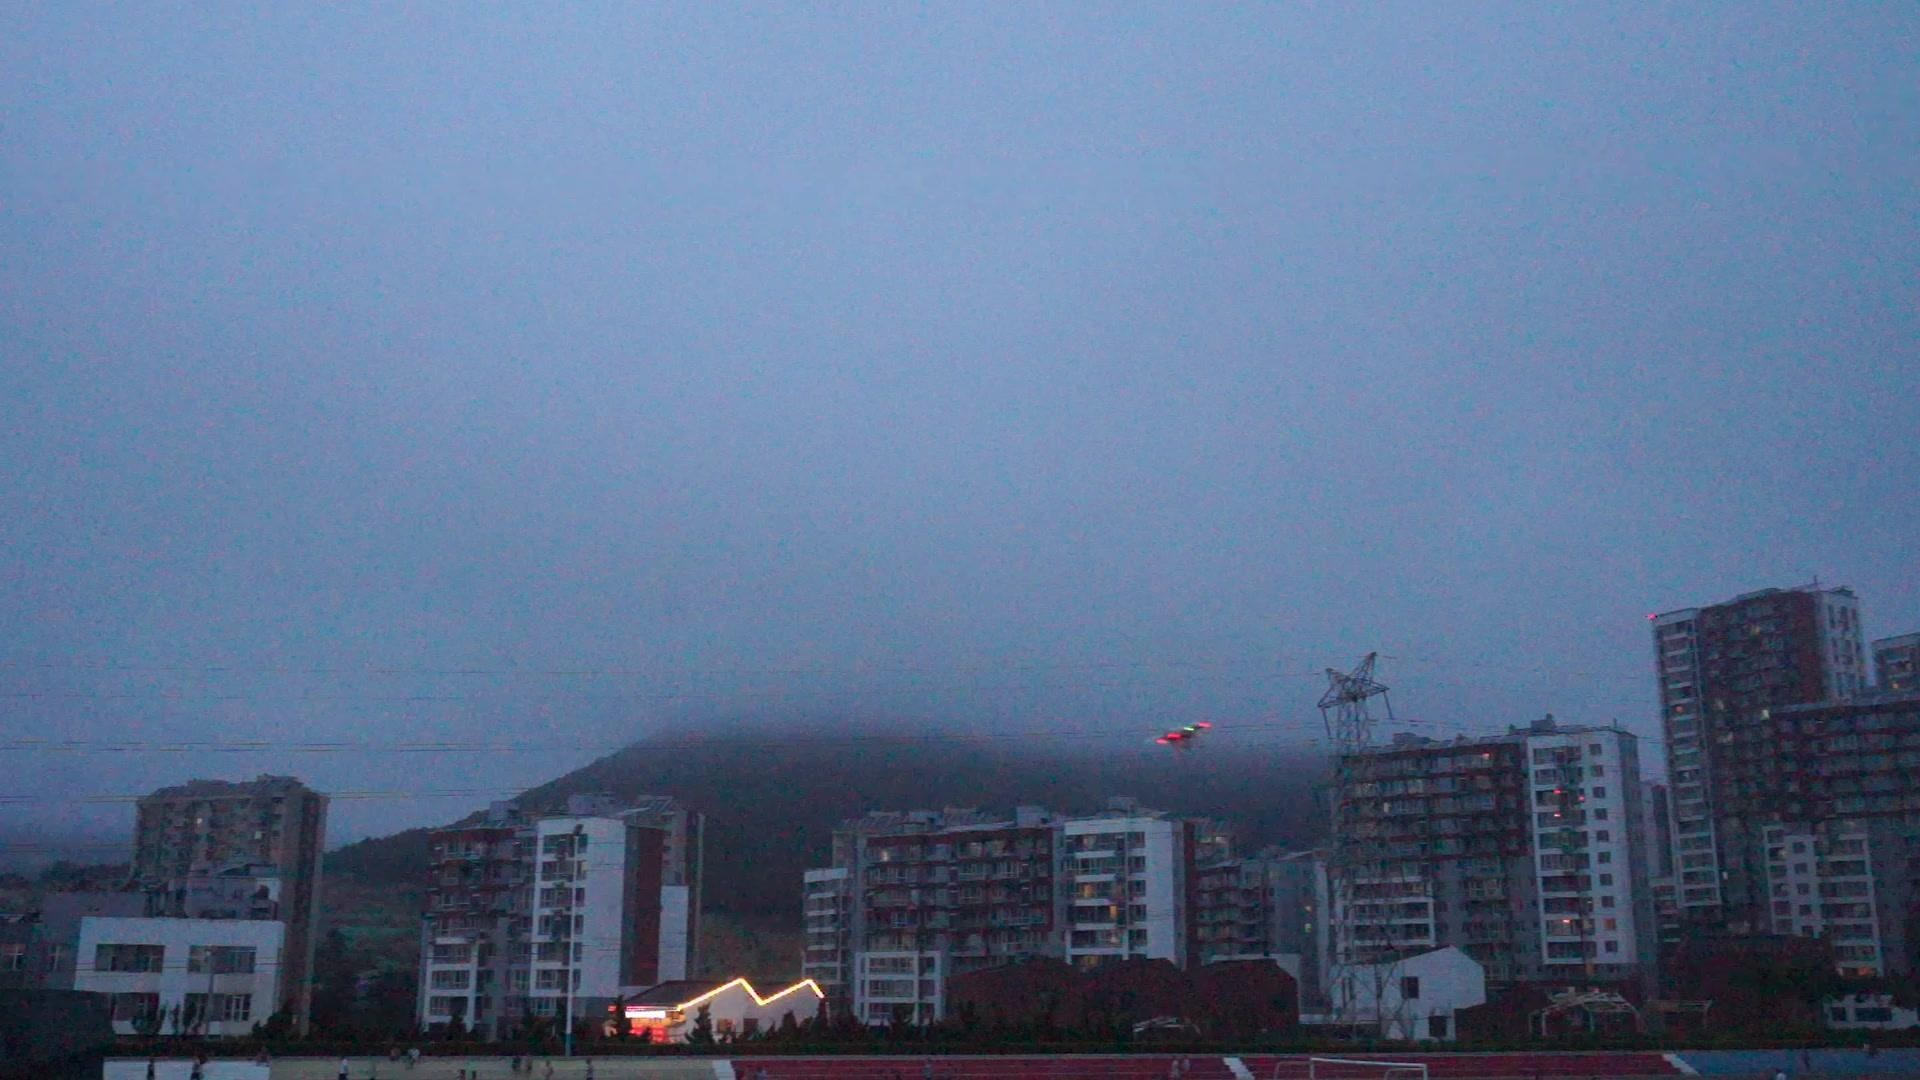UAV: (1145, 723, 1213, 753)
